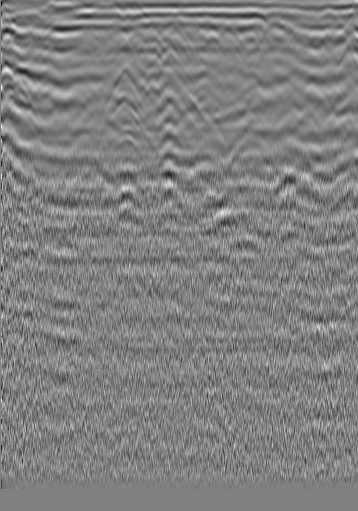가스: (107, 169, 143, 202)
상수: (18, 29, 38, 49)
오수: (311, 33, 331, 53)
우수: (158, 32, 178, 52)
